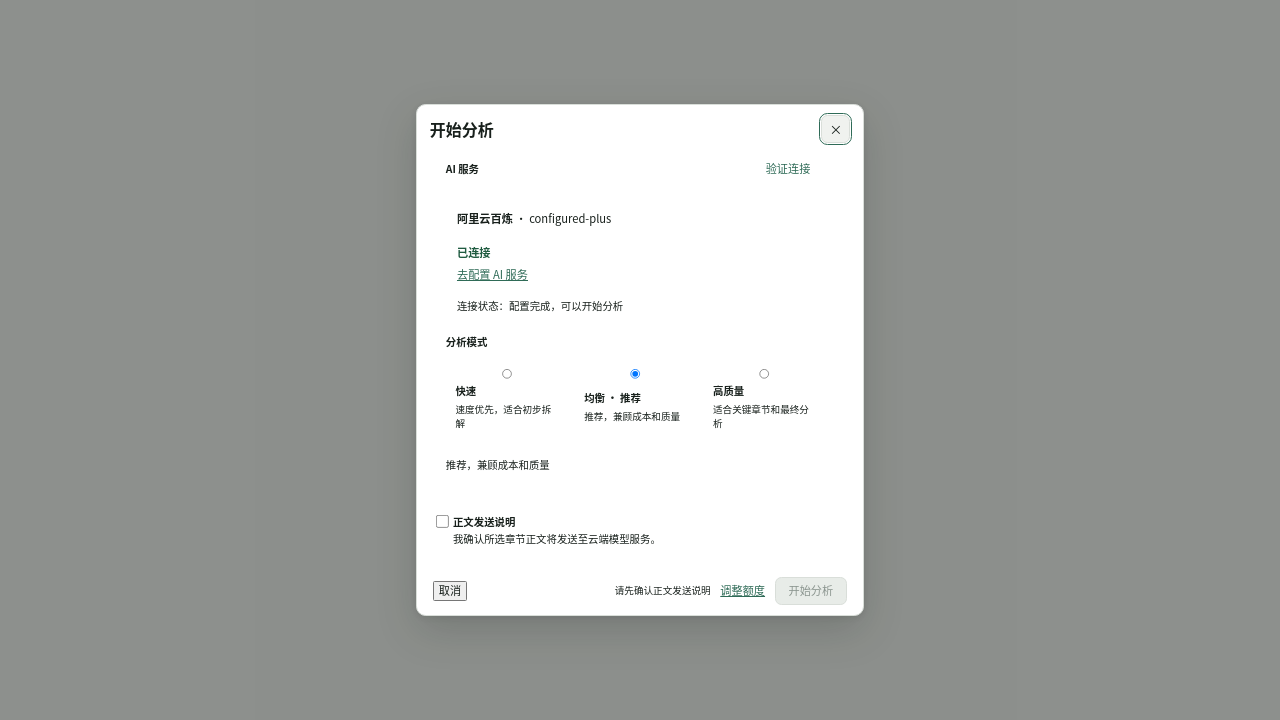
Test: 普通模式开始分析弹窗 › ExecutionPlan can_start=true 时启用开始按钮
(page scrolled)
Expected: the element with test id "start-analysis-ai-connected" is shown, [457,210,611,226]
Click the checkbox. click: (443, 522)
box: [436,515,449,528]
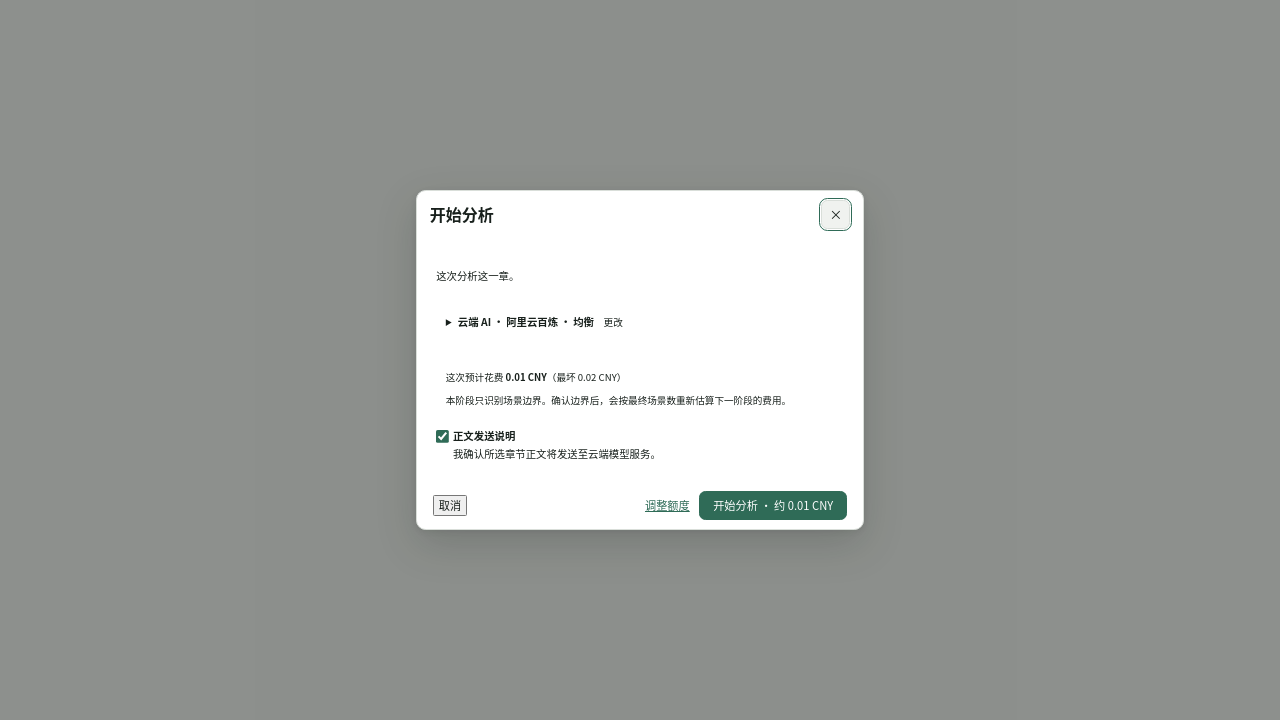
Now the button with test id "start-analysis-submit" is enabled, box [699,491,847,520]
